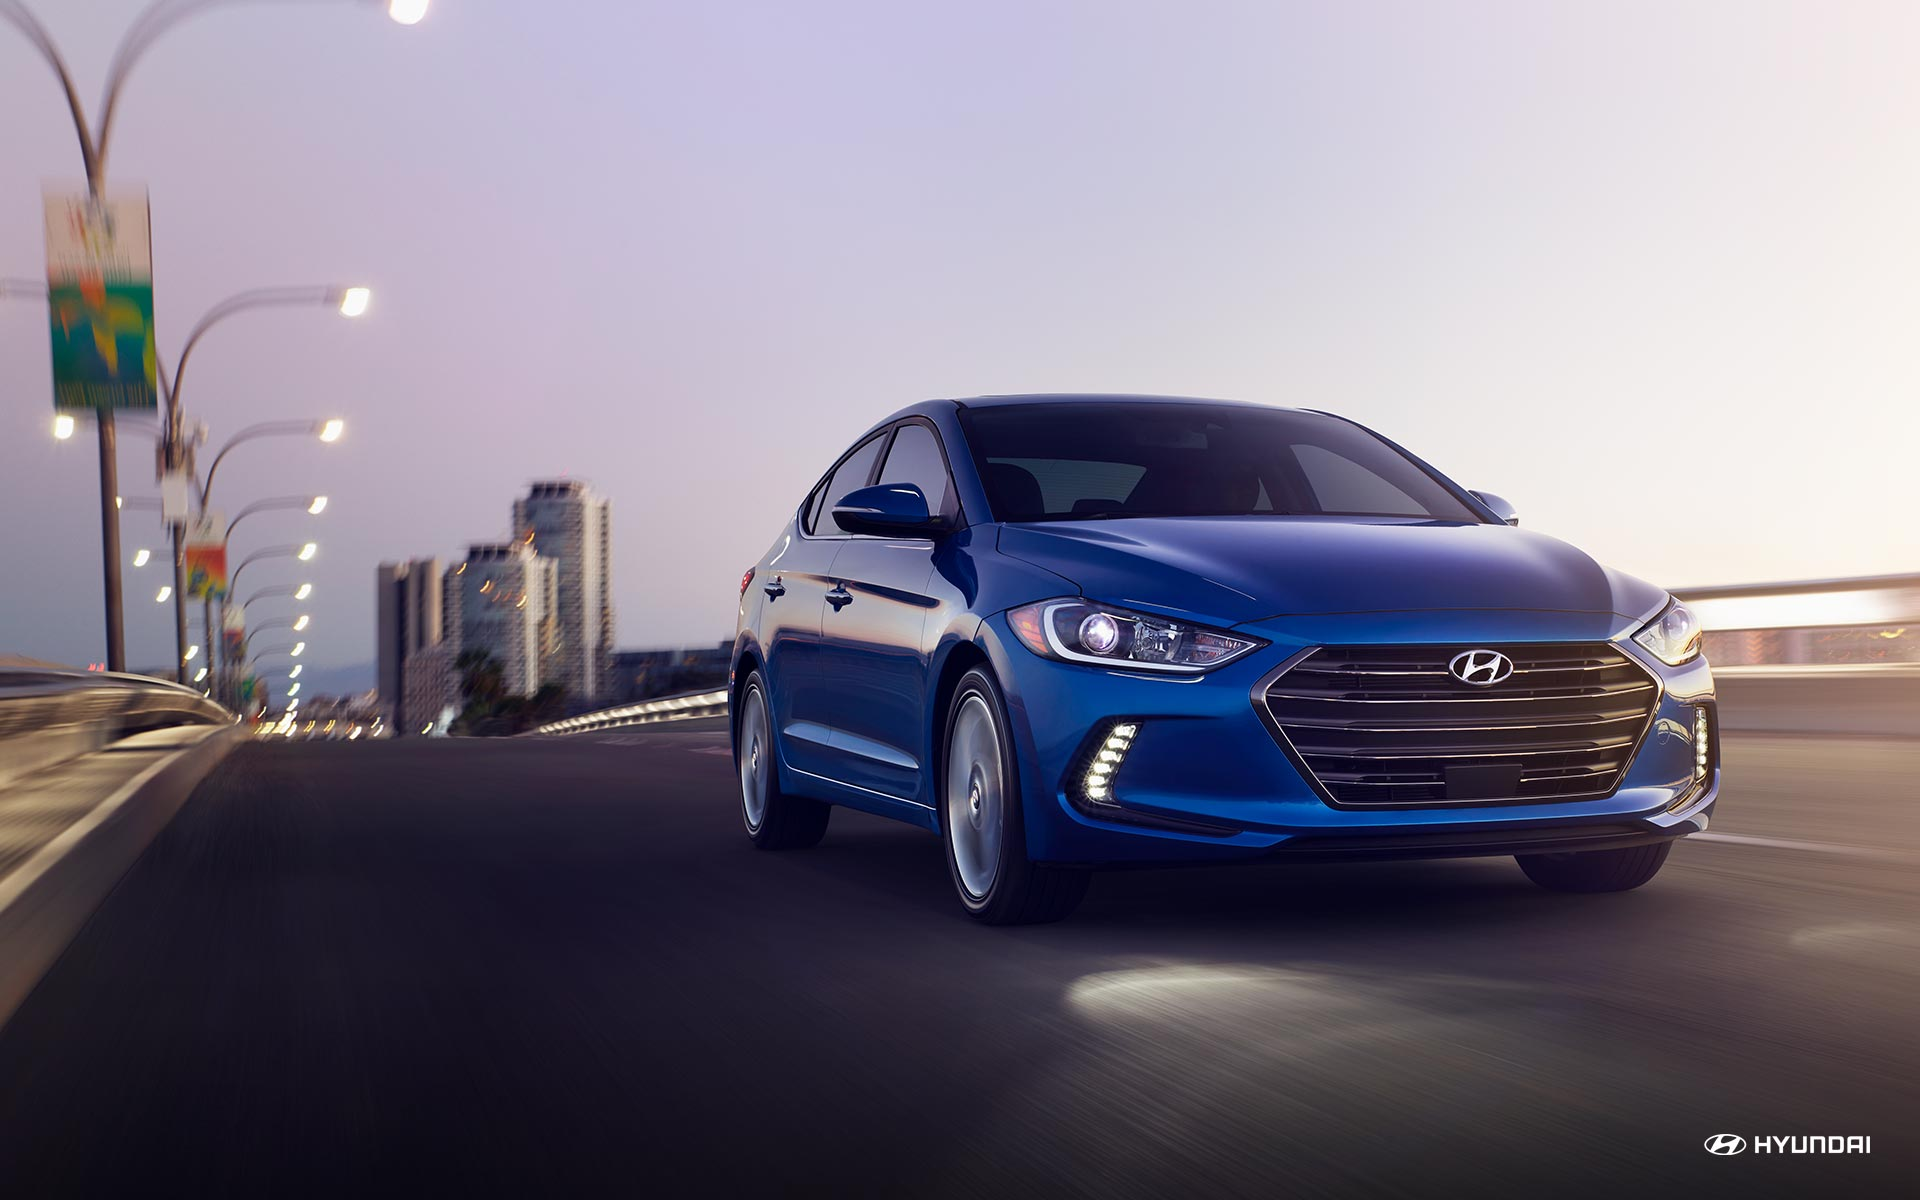elantra: (717, 382, 1728, 937)
